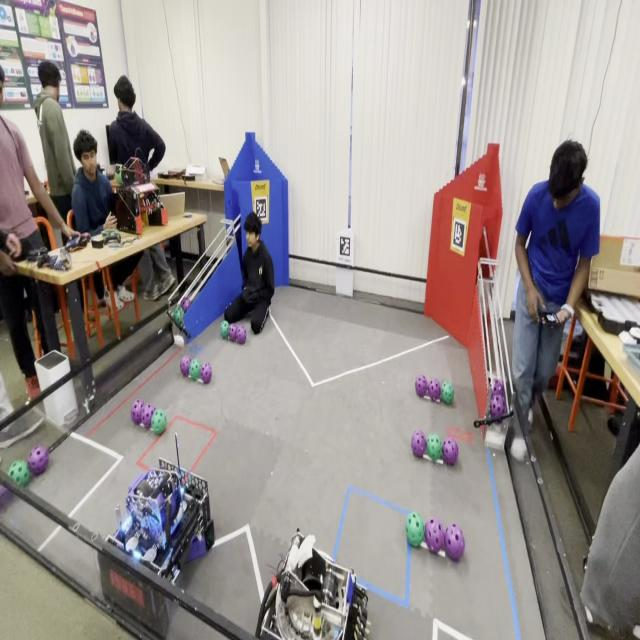artifact_green: (405, 512, 425, 548), (9, 460, 30, 487), (426, 434, 442, 460), (151, 409, 167, 435), (204, 519, 216, 550), (0, 485, 11, 510), (441, 382, 453, 404), (189, 359, 200, 380), (172, 306, 183, 327), (220, 320, 229, 339), (115, 164, 122, 184)
artifact_purple: (445, 524, 464, 560), (425, 519, 444, 553), (28, 446, 49, 475), (442, 438, 458, 465), (490, 393, 507, 418), (411, 430, 426, 457), (141, 404, 155, 428), (131, 400, 144, 424), (415, 375, 429, 397), (0, 485, 12, 509), (428, 378, 440, 400), (200, 363, 212, 383), (180, 355, 190, 376), (492, 379, 505, 395), (236, 326, 246, 343), (229, 324, 238, 342), (181, 298, 191, 312)
